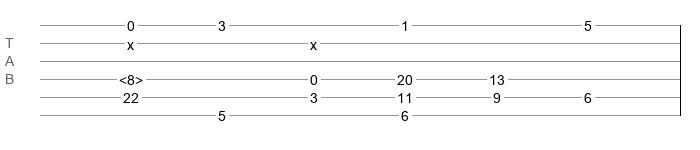0: (127, 18, 135, 28), (310, 72, 318, 82)
1: (401, 18, 409, 28)
11: (397, 90, 413, 100)
13: (489, 72, 505, 82)
20: (397, 72, 413, 82)
22: (123, 90, 139, 100)
3: (218, 18, 226, 28), (310, 90, 318, 100)
5: (218, 108, 226, 118), (584, 18, 592, 28)
6: (401, 108, 409, 118), (584, 90, 592, 100)
9: (493, 90, 501, 100)
harmonic: (119, 72, 143, 82)
x: (127, 37, 134, 45), (310, 37, 317, 45)
